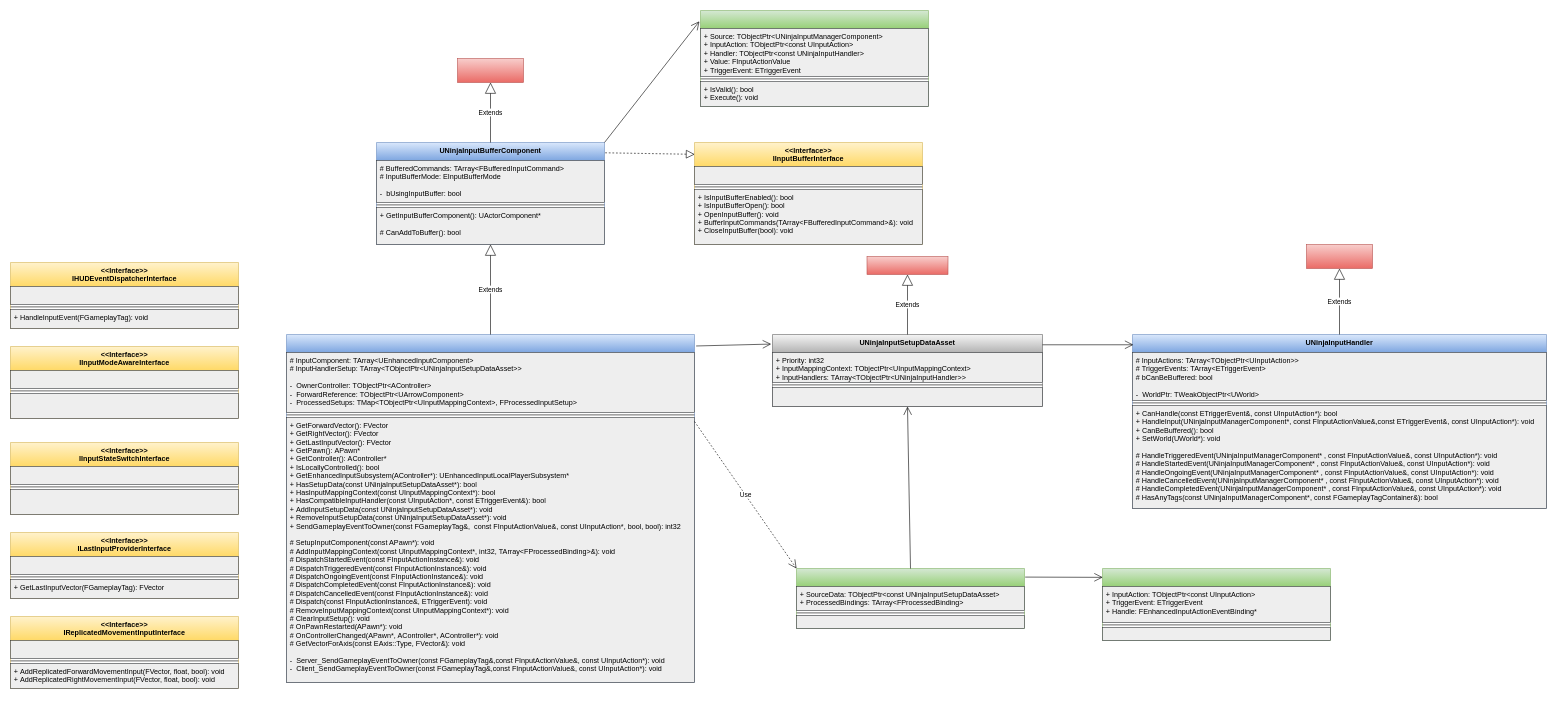
Image size: 1557x701. Some labels were removed from this diagram. Each missing label, with the box of its shape:
+ GetPlayerInputMode(): FGameplayTag + SetPlayerInputMode(FGameplayTag): void: (10, 393, 238, 418)
+ GetSwitchState(FGameplayTag): bool + SetSwitchState(FGameplayTag, bool): void: (10, 489, 238, 514)
+ HasCompatibleInputHandler(const UInputAction*, const ETriggerEvent&): bool: (772, 387, 1042, 406)
FBufferedInputCommand: (700, 10, 928, 106)
FProcessedBinding: (1102, 568, 1330, 640)
FProcessedInputSetup: (796, 568, 1024, 628)
UActorComponent: (457, 58, 524, 82)
UNinjaInputManagerComponent: (286, 334, 694, 682)
UObject: (1306, 244, 1372, 268)
UPrimaryDataAsset: (866, 256, 948, 274)
